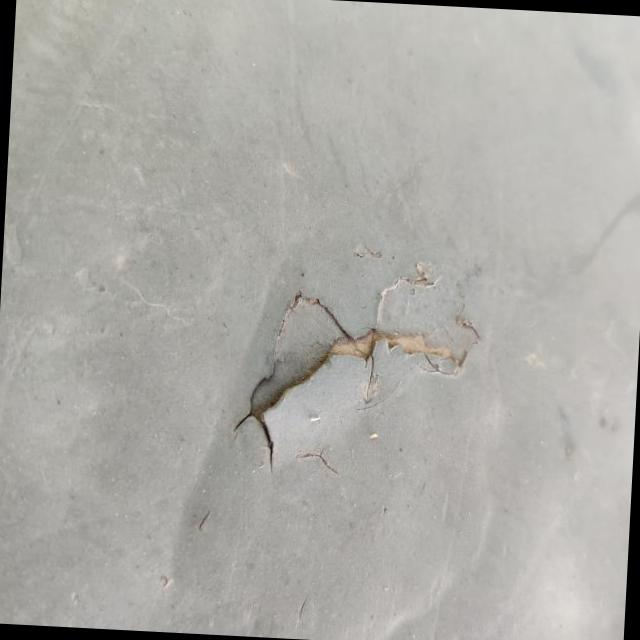Crack: (234, 262, 480, 466)
